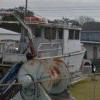Boat: (1, 15, 87, 87)
